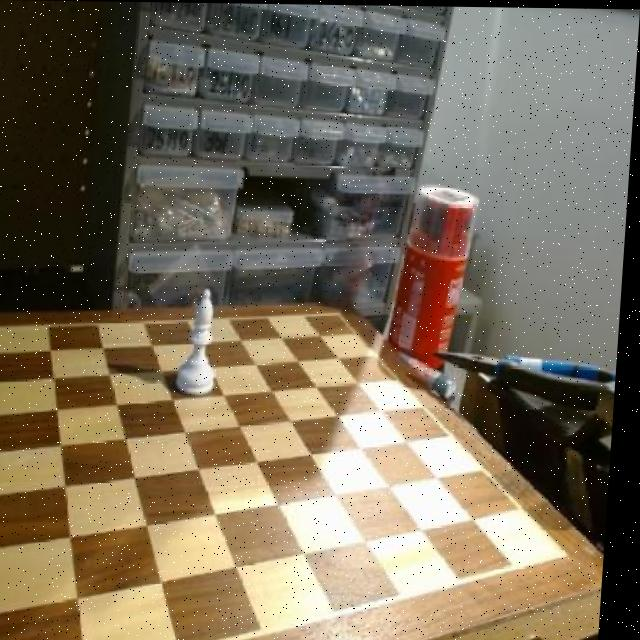black-rook: (177, 281, 232, 400)
